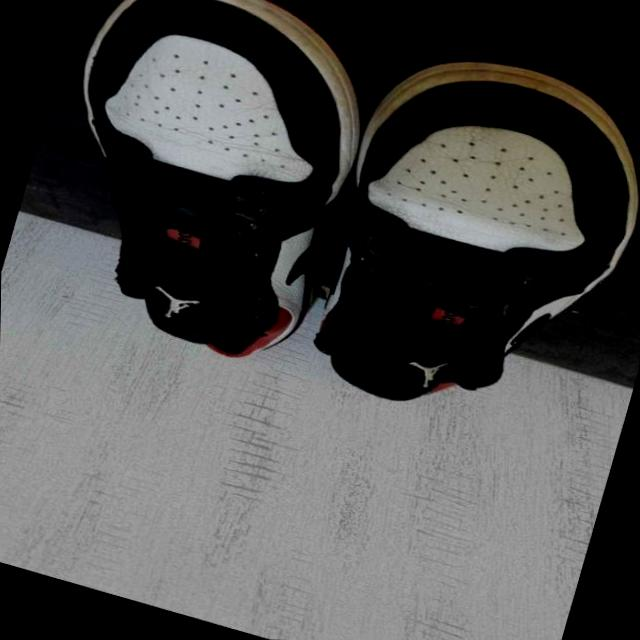nike_fake_jordan: (270, 13, 640, 457), (0, 0, 405, 385)
